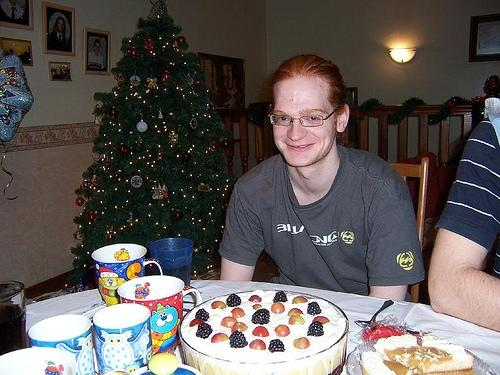blackberry: (229, 330, 248, 348), (195, 322, 214, 339), (252, 308, 270, 324), (269, 339, 285, 353), (308, 322, 324, 336), (194, 308, 210, 322), (226, 294, 242, 307), (307, 302, 321, 316), (274, 291, 288, 303)
